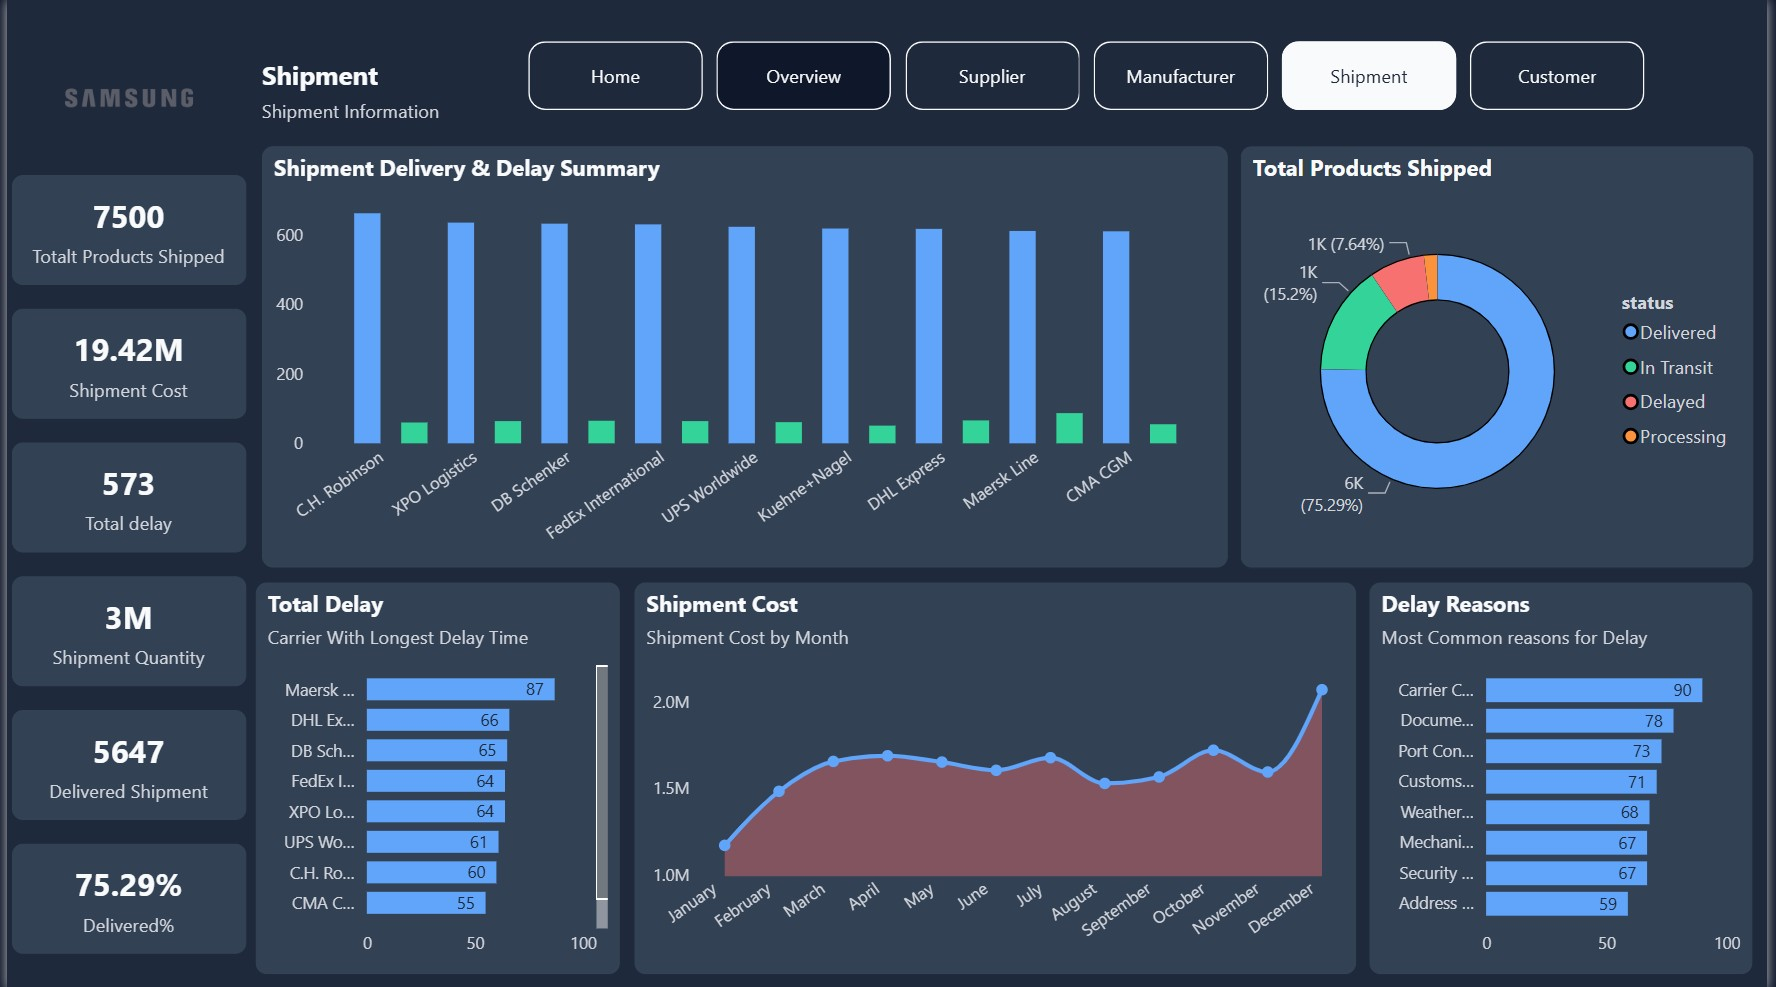

The page's visual inventory and layout, read from the dashboard file:
{"tool":"powerbi","page":{"name":"Shipment","canvas":[1280,720],"ordinal":4},"visuals":[{"type":"image","box":[16.7,0,144.4,142.2],"z":1000},{"type":"card","fields":{"Values":["calculated_tbl.Shipment_cost"]},"box":[3.8,224.8,170,80],"z":2000},{"type":"card","fields":{"Values":["calculated_tbl.Total_delay"]},"box":[3.8,322,170,80],"z":3000},{"type":"card","fields":{"Values":["calculated_tbl.Total_shipment_quantity"]},"box":[3.8,419.2,170,80],"z":4000},{"type":"card","fields":{"Values":["calculated_tbl.Total_delivered_shipment"]},"box":[3.8,516.5,170,80],"z":5000},{"type":"card","fields":{"Values":["calculated_tbl.Total_pdts_shipped"]},"box":[3.8,127.5,170,80],"z":6000},{"type":"card","fields":{"Values":["calculated_tbl.Delivered%"]},"box":[3.8,613.8,170,80],"z":7000},{"type":"clusteredBarChart","title":"Total Delay","fields":{"Category":["fact_shipment.carrier"],"Y":["calculated_tbl.Total_delay"]},"box":[181.2,423.8,265,285],"z":8000},{"type":"clusteredBarChart","title":"Delay Reasons","fields":{"Y":["calculated_tbl.Total_delay"],"Category":["fact_shipment.delay_reason"]},"box":[991.2,423.8,278.8,285],"z":9000},{"type":"lineChart","title":"Shipment Cost","fields":{"Category":["dim_date.date.Variation.Date Hierarchy.Month"],"Y":["calculated_tbl.Shipment_cost"]},"box":[456.2,423.8,525,285],"z":10000},{"type":"donutChart","title":"Total Products Shipped","fields":{"Category":["fact_shipment.status"],"Y":["calculated_tbl.Total_pdts_shipped"]},"box":[897.5,106.2,372.5,306.2],"z":11000},{"type":"clusteredColumnChart","title":"Shipment Delivery & Delay Summary","fields":{"Category":["fact_shipment.carrier"],"Y":["calculated_tbl.Total_delivered_shipment","calculated_tbl.Total_delay"]},"box":[185,106.2,702.5,306.2],"z":12000},{"type":"shape","title":"Shipment","box":[185.6,42.2,193.3,56.7],"z":14000},{"type":"pageNavigator","box":[379.4,30.3,813.7,50.5],"z":14001}]}

Visuals, with their boxes in screenshot pixels (x1, y1, x2, y2), scaled from the page's 1280x720 canvas onto the 1776x987 screenshot:
image: <region>23, 0, 224, 195</region>
card - calculated_tbl.Shipment_cost: <region>5, 308, 241, 418</region>
card - calculated_tbl.Total_delay: <region>5, 441, 241, 551</region>
card - calculated_tbl.Total_shipment_quantity: <region>5, 575, 241, 684</region>
card - calculated_tbl.Total_delivered_shipment: <region>5, 708, 241, 818</region>
card - calculated_tbl.Total_pdts_shipped: <region>5, 175, 241, 284</region>
card - calculated_tbl.Delivered%: <region>5, 841, 241, 951</region>
"Total Delay" clusteredBarChart: <region>251, 581, 619, 972</region>
"Delay Reasons" clusteredBarChart: <region>1375, 581, 1762, 972</region>
"Shipment Cost" lineChart: <region>633, 581, 1361, 972</region>
"Total Products Shipped" donutChart: <region>1245, 146, 1762, 565</region>
"Shipment Delivery & Delay Summary" clusteredColumnChart: <region>257, 146, 1231, 565</region>
"Shipment" shape: <region>258, 58, 526, 136</region>
pageNavigator: <region>526, 42, 1655, 111</region>
